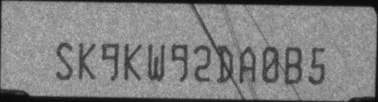0: (260, 43, 278, 83)
2: (193, 43, 211, 83)
5: (307, 45, 325, 85)
9: (101, 42, 119, 81), (171, 43, 189, 82)
A: (238, 45, 256, 84)
B: (284, 46, 302, 84)
D: (217, 45, 234, 82)
K: (123, 43, 143, 82), (78, 40, 96, 80)
S: (55, 41, 74, 80)
W: (147, 42, 166, 81)
